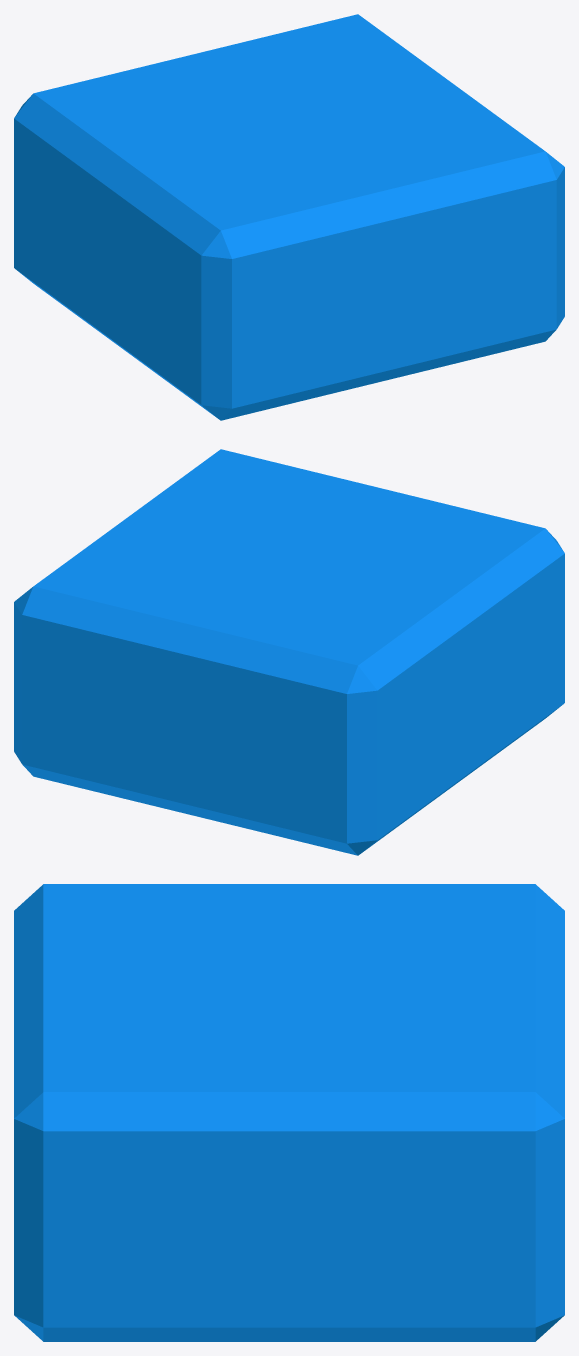
Rendered from block-noneon-large-alt.glb.
The picture shows the model from 3 angles, top to bottom: view 1: azimuth 30°, elevation 25°; view 2: azimuth 150°, elevation 25°; view 3: azimuth 270°, elevation 25°; orthographic projection. The views are drawn at different scales.
Parts seen in each view (by area): view 1: Cube; view 2: Cube; view 3: Cube.
Part boxes in pixels (x1,y1,x2,y2): Cube: (14, 14, 564, 420); Cube: (14, 449, 564, 855); Cube: (14, 884, 564, 1341).
Bounding box in the file's own units: 2 × 1 × 2.
